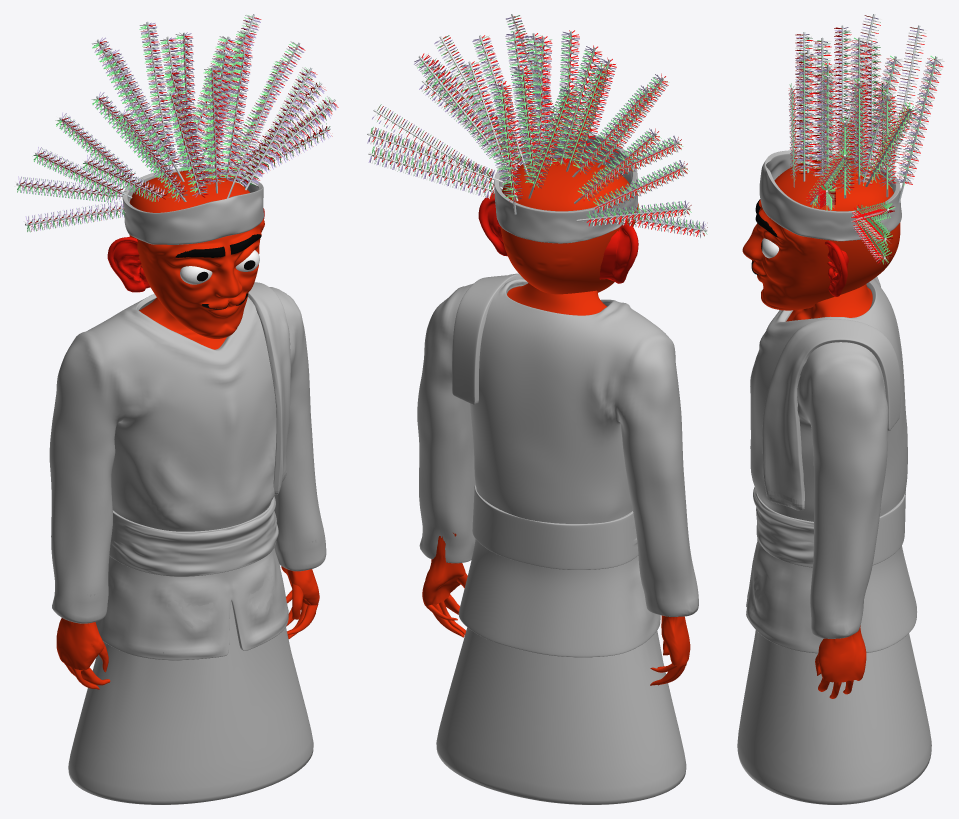
The model's file is ondel.glb.
The picture shows the model from 3 angles, left to right: view 1: azimuth 30°, elevation 25°; view 2: azimuth 150°, elevation 25°; view 3: azimuth 270°, elevation 25°; orthographic projection. The views are drawn at different scales.
Visible parts, largest first — view 1: ondela_Material.010_0, Cube_Material.003_0, konde.002_group_9SG.001_0, konde.002_ID100040SG.001_0, konde.002_group_6SG.001_0, konde.002_group_0SG.001_0, konde.002_SketchUpSG.001_0, konde_Material.004_0, Sphere_Material.008_0, Sphere_Material.007_0; view 2: ondela_Material.010_0, Cube_Material.003_0, konde.002_ID100040SG.001_0, konde.002_group_9SG.001_0, konde.002_group_6SG.001_0, konde.002_group_0SG.001_0, konde_Material.004_0, konde.002_SketchUpSG.001_0; view 3: ondela_Material.010_0, Cube_Material.003_0, konde.002_ID100040SG.001_0, konde.002_group_0SG.001_0, konde.002_group_9SG.001_0, konde.002_group_6SG.001_0, konde.002_SketchUpSG.001_0, konde_Material.004_0.
Part boxes in pixels (left/top/right/bottom): ondela_Material.010_0: left=49, top=168, right=326, bottom=804; Cube_Material.003_0: left=56, top=170, right=319, bottom=689; konde.002_group_9SG.001_0: left=18, top=18, right=336, bottom=231; konde.002_ID100040SG.001_0: left=15, top=14, right=335, bottom=226; konde.002_group_6SG.001_0: left=17, top=15, right=332, bottom=232; konde.002_group_0SG.001_0: left=20, top=17, right=338, bottom=231; konde.002_SketchUpSG.001_0: left=17, top=14, right=335, bottom=225; konde_Material.004_0: left=107, top=208, right=264, bottom=292; Sphere_Material.008_0: left=175, top=234, right=261, bottom=309; Sphere_Material.007_0: left=180, top=250, right=259, bottom=284; ondela_Material.010_0: left=417, top=134, right=698, bottom=804; Cube_Material.003_0: left=422, top=156, right=690, bottom=685; konde.002_ID100040SG.001_0: left=367, top=14, right=707, bottom=237; konde.002_group_9SG.001_0: left=367, top=17, right=705, bottom=237; konde.002_group_6SG.001_0: left=370, top=15, right=707, bottom=236; konde.002_group_0SG.001_0: left=371, top=16, right=707, bottom=236; konde_Material.004_0: left=478, top=193, right=638, bottom=283; konde.002_SketchUpSG.001_0: left=367, top=14, right=706, bottom=231; ondela_Material.010_0: left=737, top=150, right=931, bottom=804; Cube_Material.003_0: left=742, top=159, right=900, bottom=698; konde.002_ID100040SG.001_0: left=788, top=14, right=944, bottom=263; konde.002_group_0SG.001_0: left=788, top=15, right=943, bottom=263; konde.002_group_9SG.001_0: left=788, top=17, right=940, bottom=264; konde.002_group_6SG.001_0: left=789, top=22, right=940, bottom=264; konde.002_SketchUpSG.001_0: left=791, top=14, right=936, bottom=258; konde_Material.004_0: left=825, top=241, right=848, bottom=296.
Bounding box in the file's own units: 9.56 × 20.54 × 5.39.
